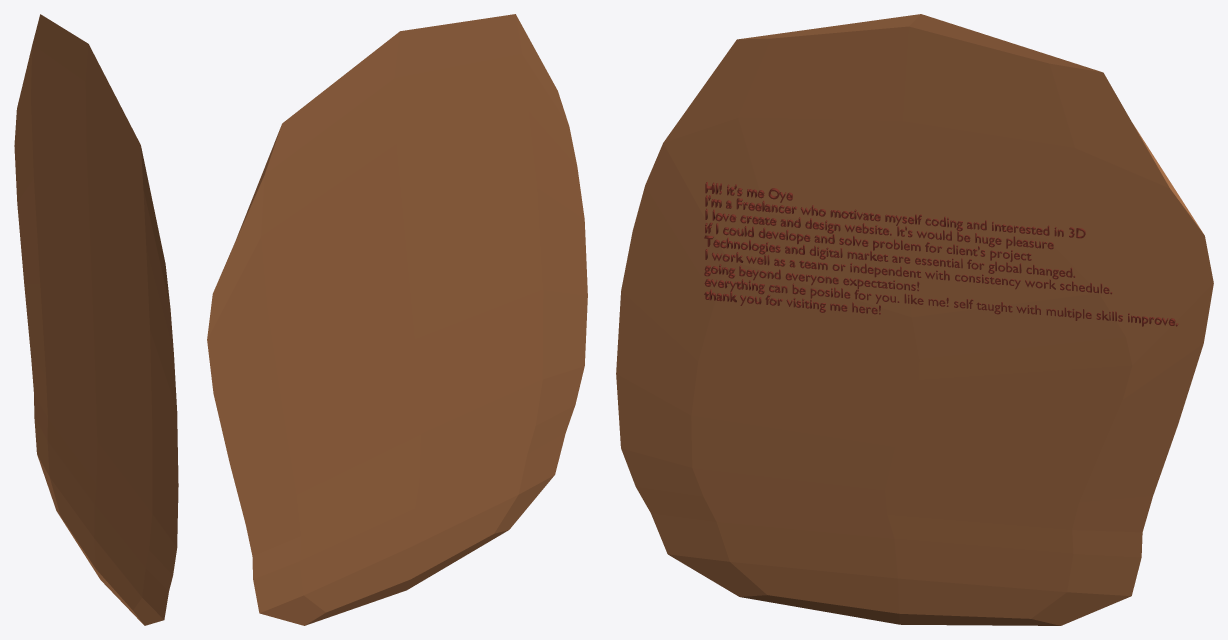
File: aboutmeintro.glb
3 renders of one model, left to right at view 1: azimuth 30°, elevation 25°; view 2: azimuth 150°, elevation 25°; view 3: azimuth 270°, elevation 25°, orthographic. The views are drawn at different scales.
Parts seen in each view (by area): view 1: Cube.001; view 2: Cube.001; view 3: Cube.001, Text.006.
Boxes of the visible parts, x1,y1,x2,y2 form: Cube.001: [14, 14, 178, 625]; Cube.001: [207, 14, 587, 625]; Cube.001: [616, 14, 1213, 625]; Text.006: [704, 182, 1178, 326].
Size of the model in its own units: 0.1164 by 0.6139 by 0.5459.
